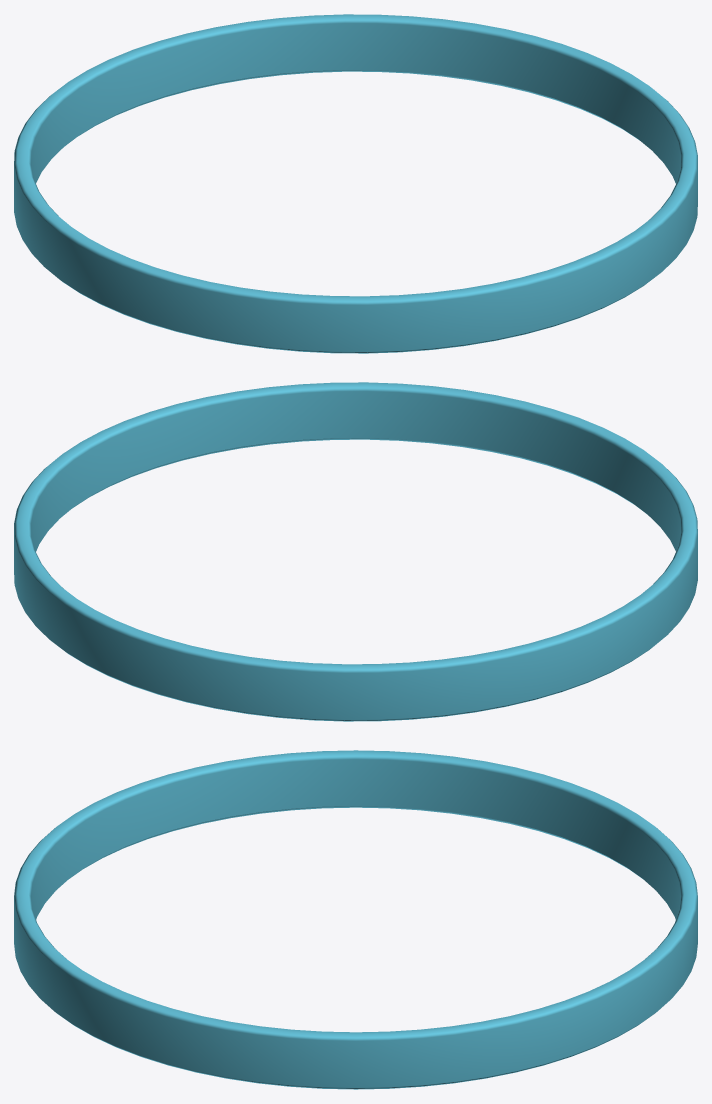
The picture shows the model from 3 angles, top to bottom: view 1: azimuth 30°, elevation 25°; view 2: azimuth 150°, elevation 25°; view 3: azimuth 270°, elevation 25°; orthographic projection.
Visible parts, largest first — view 1: seal_body; view 2: seal_body; view 3: seal_body.
Boxes of the visible parts, box(x1,y1,x2,y2) form: seal_body: box(14, 14, 697, 353); seal_body: box(14, 382, 697, 721); seal_body: box(14, 750, 697, 1089).
Bounding box in the file's own units: 0.127 × 0.0108 × 0.127.
